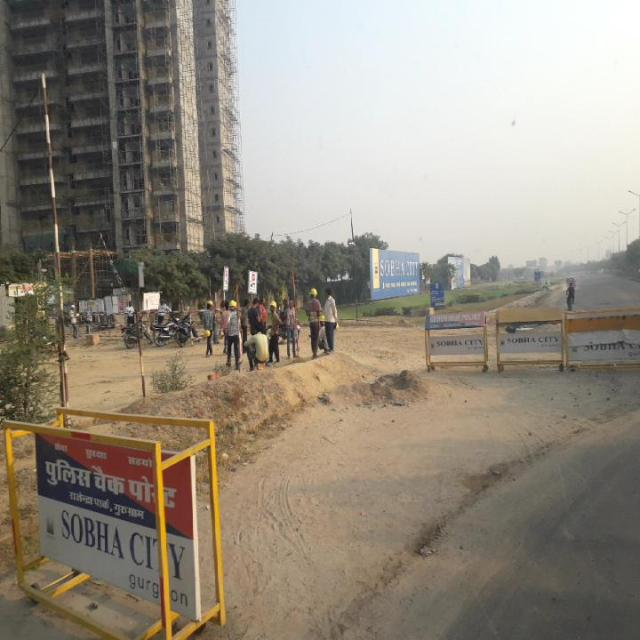Surface Erosion: (298, 281, 640, 640)
